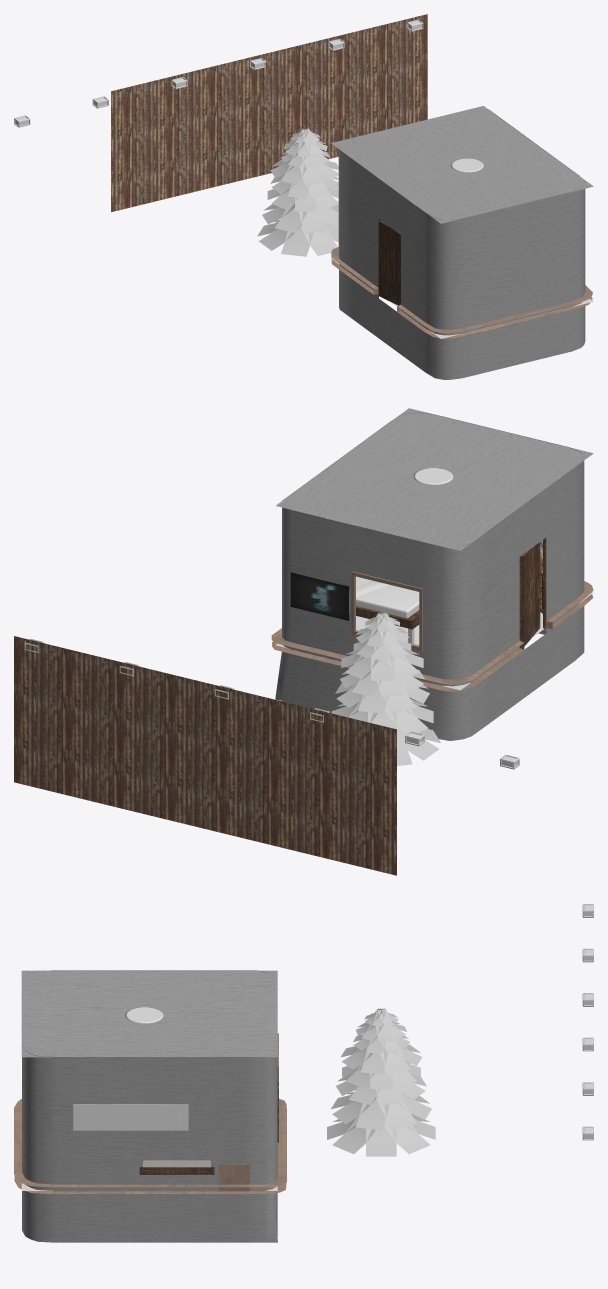
The model's file is New_Room.FBX.
The picture shows the model from 3 angles, top to bottom: view 1: azimuth 30°, elevation 25°; view 2: azimuth 150°, elevation 25°; view 3: azimuth 270°, elevation 25°; orthographic projection. The views are drawn at different scales.
Parts seen in each view (by area): view 1: Wall, Fence, Ceiling, Trim, Door, Branch_002, Branch_004, Branch_015, Branch_014; view 2: Fence, Wall, Ceiling, Trim, Poster, Door, Bed, Wall_WIndow_Base, Door_Frame; view 3: Wall, Ceiling, Trim, Poster001, Branch_0, Bedside_Cabinet, Branch_003, Branch_013, Branch_006, Branch_009, Bed_Frame_metal, bedtop (+1 smaller).
Boxes of the visible parts, x1,y1,x2,y2 form: Wall: [338, 109, 585, 379]; Fence: [111, 14, 427, 212]; Ceiling: [331, 106, 593, 223]; Trim: [331, 247, 592, 338]; Door: [378, 220, 400, 305]; Branch_002: [281, 226, 313, 256]; Branch_004: [300, 224, 337, 255]; Branch_015: [299, 202, 327, 233]; Branch_014: [274, 202, 307, 232]; Fence: [14, 636, 396, 875]; Wall: [275, 412, 584, 740]; Ceiling: [276, 408, 593, 550]; Trim: [271, 581, 593, 691]; Poster: [290, 572, 349, 620]; Door: [521, 542, 540, 646]; Bed: [356, 586, 419, 618]; Wall_WIndow_Base: [351, 571, 422, 651]; Door_Frame: [519, 538, 546, 640]; Wall: [22, 970, 277, 1242]; Ceiling: [21, 970, 277, 1057]; Trim: [14, 1099, 286, 1193]; Poster001: [73, 1104, 188, 1130]; Branch_0: [366, 1124, 396, 1156]; Bedside_Cabinet: [219, 1165, 249, 1191]; Branch_003: [384, 1119, 430, 1154]; Branch_013: [355, 1098, 389, 1130]; Branch_006: [332, 1116, 375, 1154]; Branch_009: [376, 1095, 417, 1129]; Bed_Frame_metal: [139, 1167, 214, 1174]; bedtop: [143, 1160, 210, 1167].
Bounding box in the file's own units: 541 × 201 × 566.
